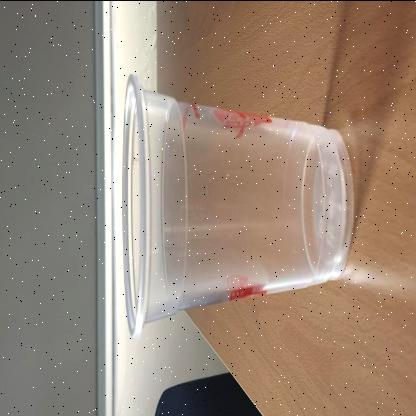Others: (120, 69, 354, 338)
